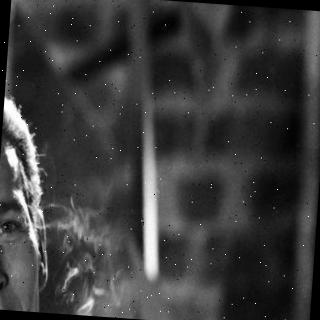smoke: (48, 199, 149, 319)
